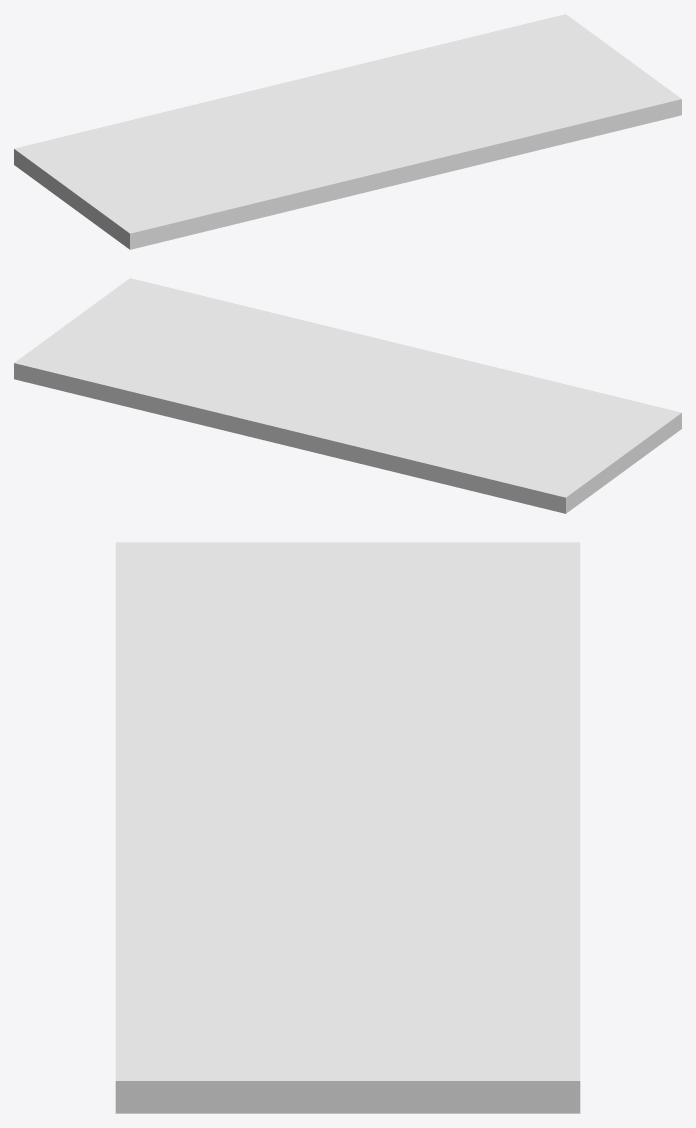
File: AEC_48042.glb
3 renders of one model, top to bottom at view 1: azimuth 30°, elevation 25°; view 2: azimuth 150°, elevation 25°; view 3: azimuth 270°, elevation 25°, orthographic. The views are drawn at different scales.
Visible parts, largest first — view 1: 0; view 2: 0; view 3: 0.
Boxes of the visible parts, box(x1,y1,x2,y2) form: 0: box(14, 14, 681, 249); 0: box(14, 278, 681, 513); 0: box(115, 542, 580, 1113).
Size of the model in its own units: 1.28 by 0.036 by 0.467.
Materials: 1 (1 with a texture image).
